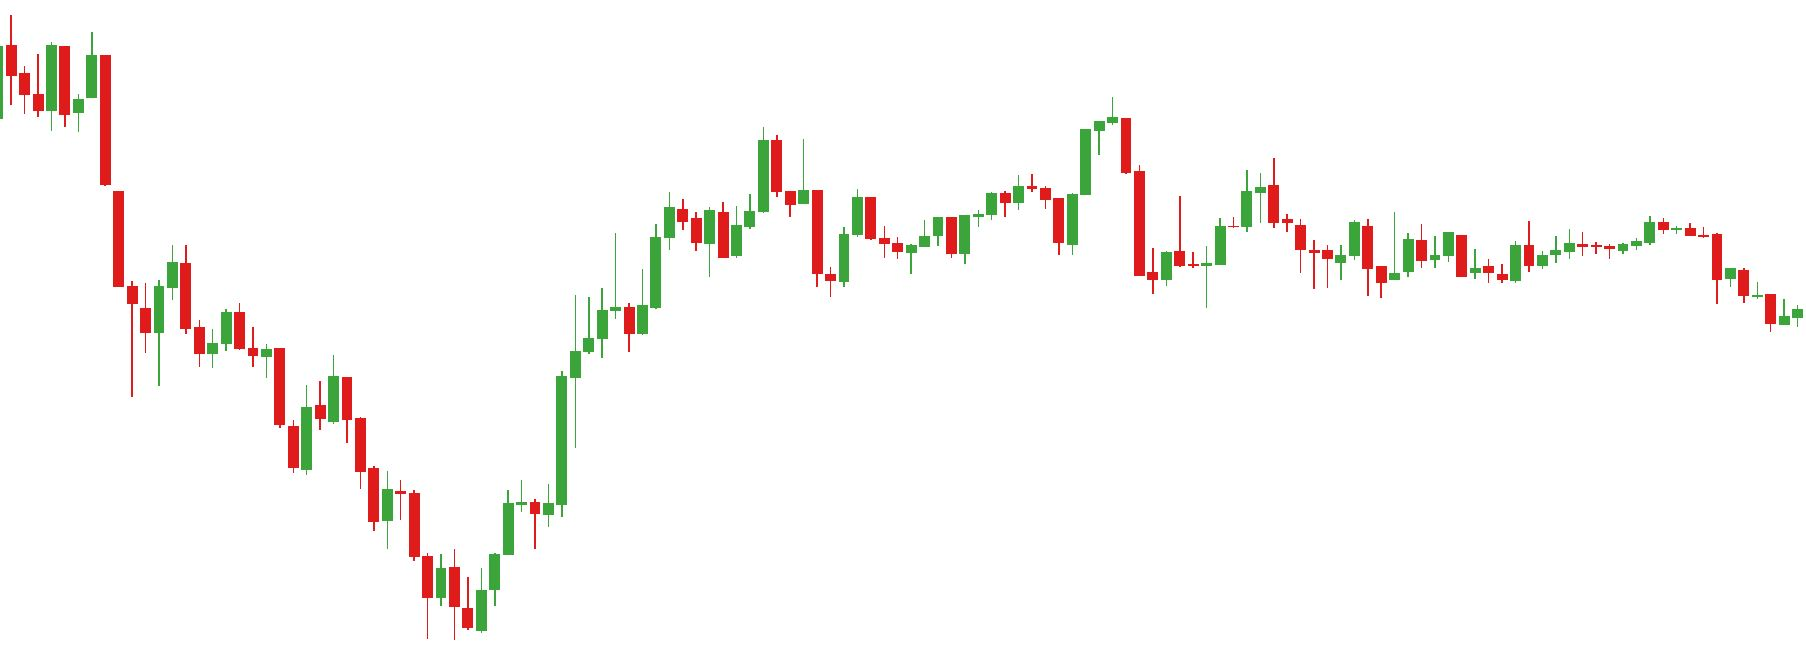sell: (756, 98, 1133, 216), (1170, 161, 1283, 257)
